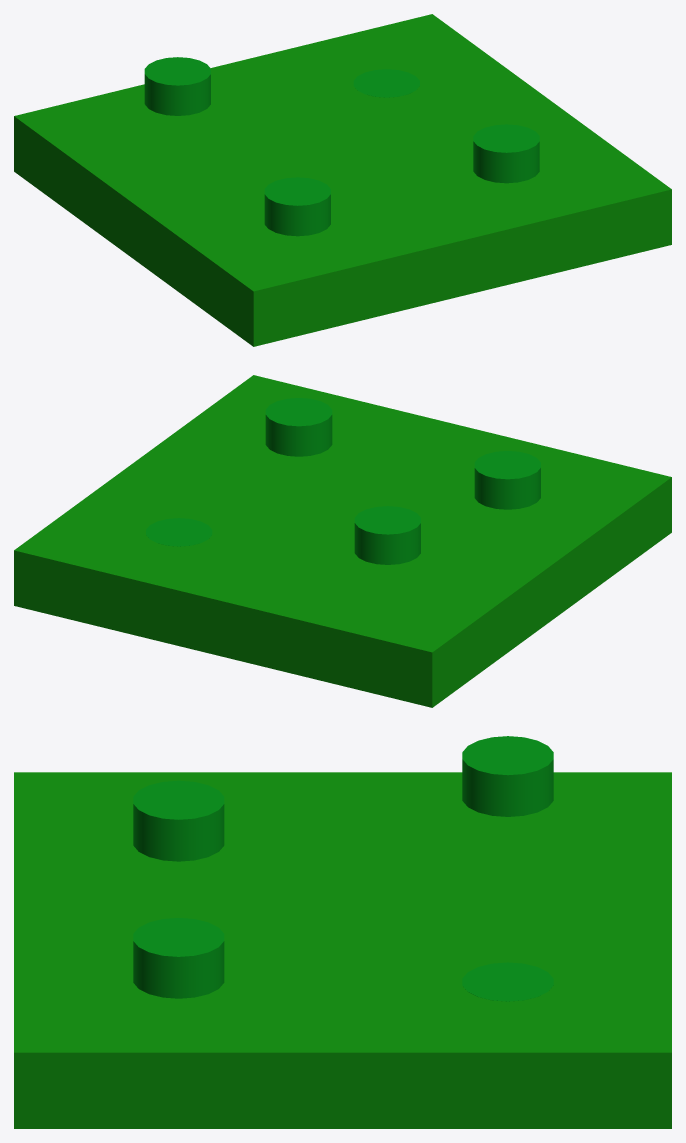
File: Grass.FBX
3 renders of one model, top to bottom at view 1: azimuth 30°, elevation 25°; view 2: azimuth 150°, elevation 25°; view 3: azimuth 270°, elevation 25°, orthographic. The views are drawn at different scales.
Visible parts, largest first — view 1: Box001, Cylinder002, Cylinder004, Cylinder001, Cylinder003; view 2: Box001, Cylinder004, Cylinder002, Cylinder001, Cylinder003; view 3: Box001, Cylinder001, Cylinder004, Cylinder002, Cylinder003.
Part boxes in pixels (x1,y1,x2,y2): Box001: (14, 14, 671, 346); Cylinder002: (144, 57, 210, 115); Cylinder004: (473, 124, 539, 183); Cylinder001: (264, 177, 330, 236); Cylinder003: (353, 69, 419, 97); Box001: (14, 375, 671, 707); Cylinder004: (265, 398, 332, 456); Cylinder002: (354, 506, 420, 564); Cylinder001: (474, 451, 540, 509); Cylinder003: (146, 518, 212, 546); Box001: (14, 772, 671, 1128); Cylinder001: (133, 780, 224, 861); Cylinder004: (133, 918, 224, 998); Cylinder002: (462, 736, 553, 816); Cylinder003: (462, 962, 553, 1001).
Size of the model in its own units: 40.23 by 10.89 by 39.9.
